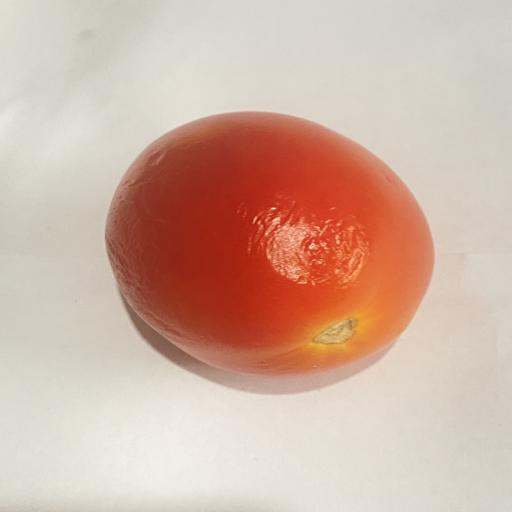spoiled: (105, 112, 433, 376)
